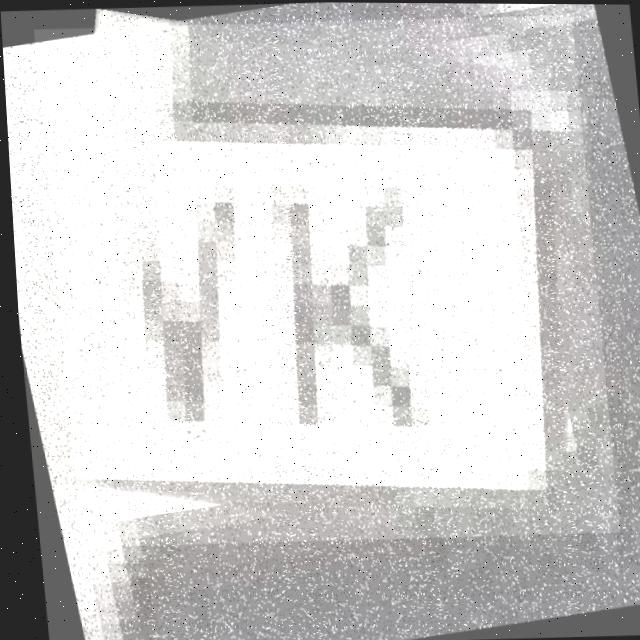LicensePlate: (32, 11, 613, 550)
